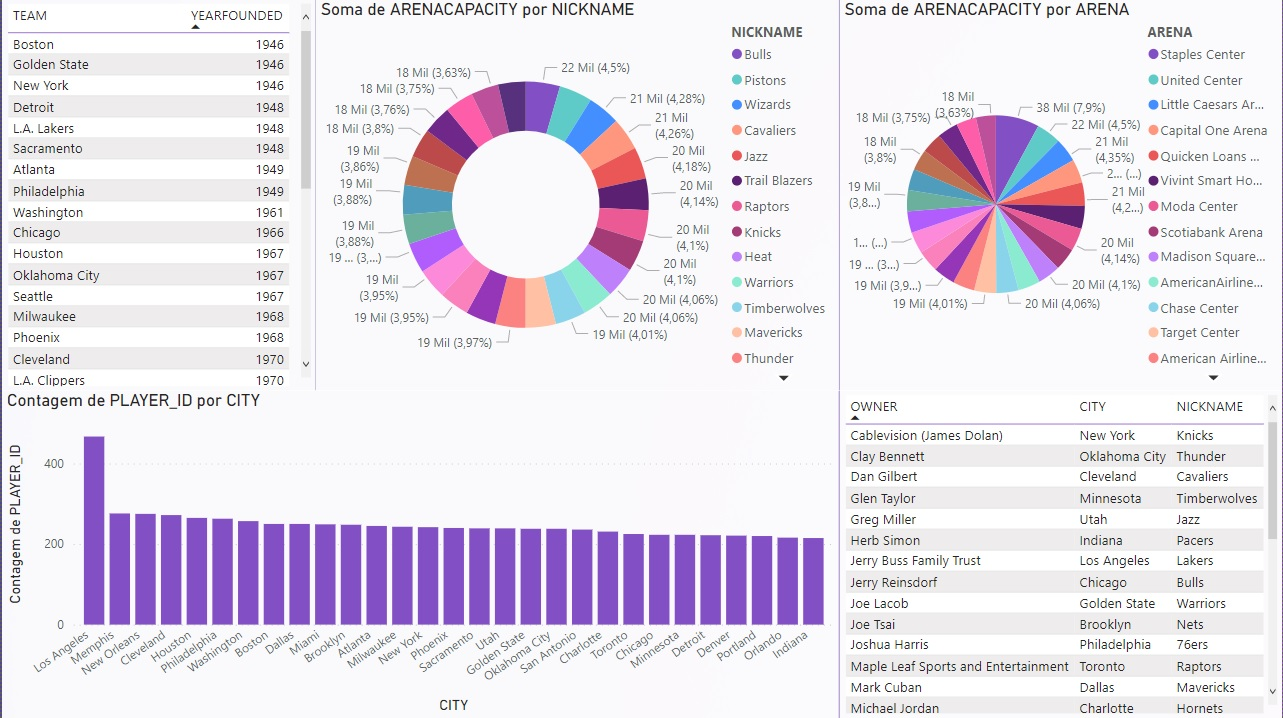

The page's visual inventory and layout, read from the dashboard file:
{"tool":"powerbi","page":{"name":"Página 1","canvas":[1280,720],"ordinal":0},"visuals":[{"type":"clusteredColumnChart","fields":{"Y":["players.PLAYER_ID"],"Category":["teams.CITY"]},"box":[0,391.7,836.8,328.3],"z":0},{"type":"tableEx","fields":{"Values":["ranking.TEAM","teams.YEARFOUNDED"]},"box":[0,0,313.6,392],"z":1000},{"type":"pieChart","fields":{"Y":["teams.ARENACAPACITY"],"Category":["teams.ARENA"]},"box":[837.3,0,443,391.6],"z":2000},{"type":"donutChart","fields":{"Category":["teams.NICKNAME"],"Y":["teams.ARENACAPACITY"]},"box":[313.6,0,523.4,392],"z":3000},{"type":"tableEx","fields":{"Values":["teams.OWNER","teams.CITY","teams.NICKNAME"]},"box":[837.3,391.6,443,328.2],"z":4000}]}

Visuals, with their boxes in screenshot pixels (x1, y1, x2, y2), scaled from the page's 1280x720 canvas onto the 1283x718 screenshot:
clusteredColumnChart - players.PLAYER_ID x teams.CITY: l=0, t=391, r=839, b=717
tableEx - ranking.TEAM x teams.YEARFOUNDED: l=0, t=0, r=314, b=391
pieChart - teams.ARENACAPACITY x teams.ARENA: l=839, t=0, r=1282, b=391
donutChart - teams.NICKNAME x teams.ARENACAPACITY: l=314, t=0, r=839, b=391
tableEx - teams.OWNER x teams.CITY: l=839, t=391, r=1282, b=717
